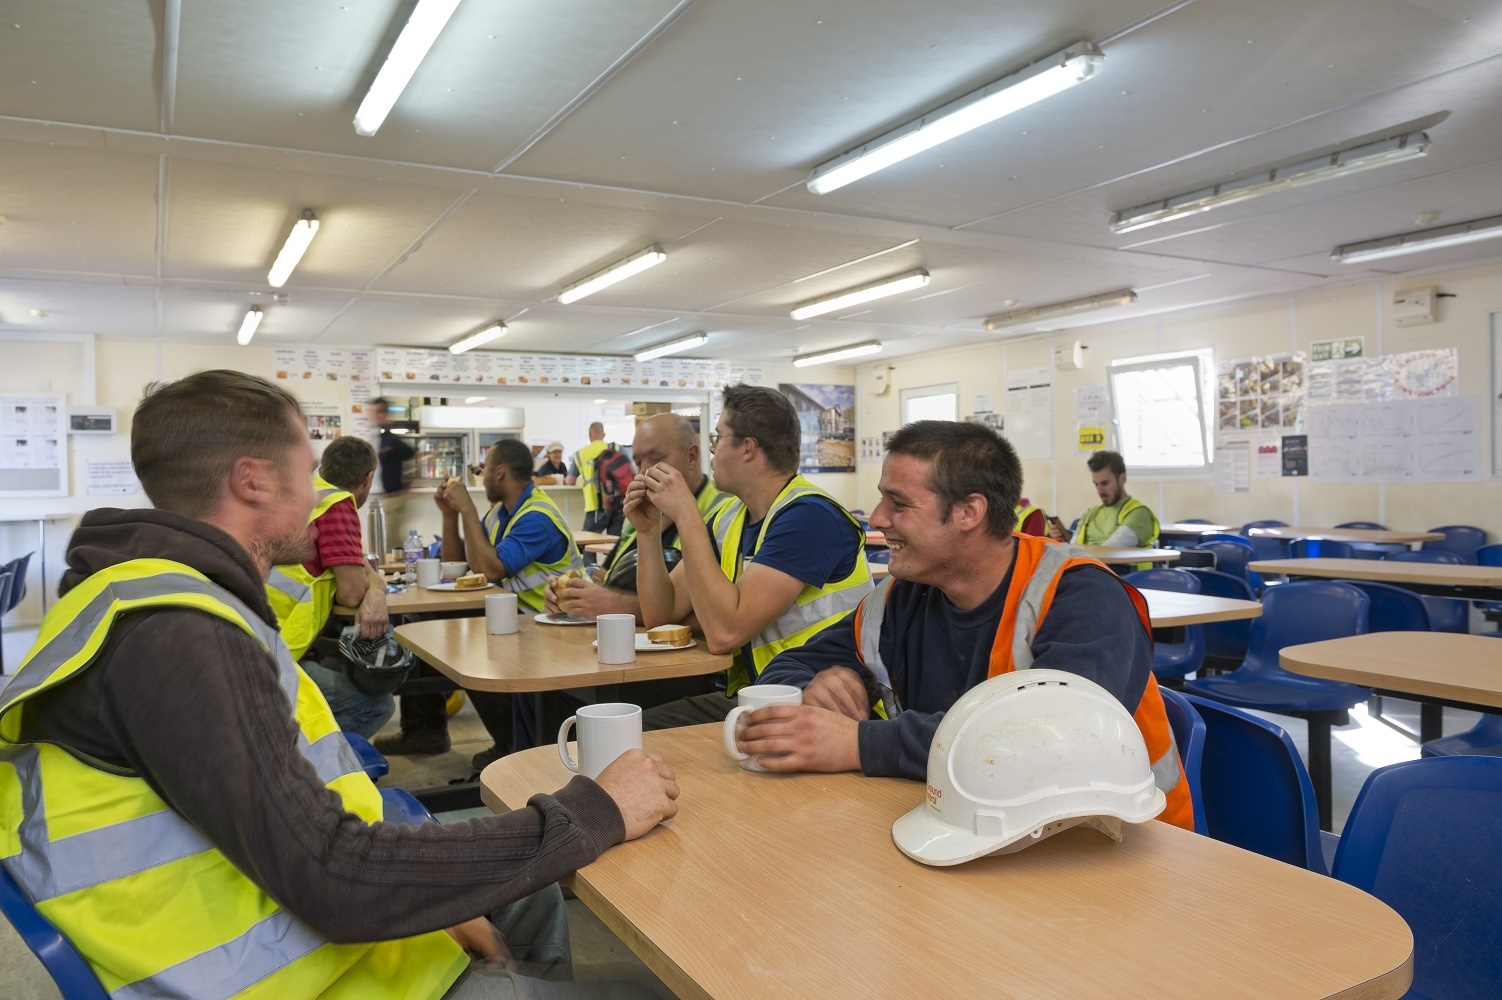noepi: (6, 366, 684, 1000), (739, 423, 1198, 831), (632, 384, 873, 730), (546, 406, 733, 621), (283, 430, 403, 737), (434, 439, 598, 615), (1044, 446, 1166, 577), (571, 422, 632, 541), (362, 395, 420, 491), (535, 443, 574, 483)
